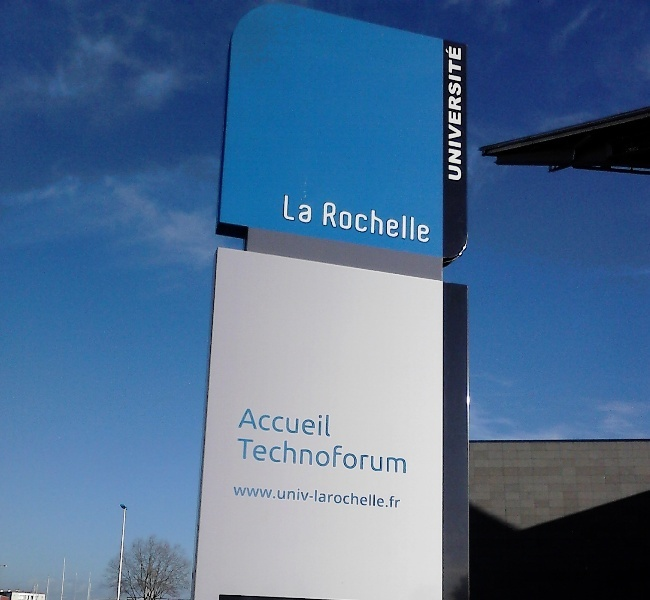text: (449, 43, 463, 181), (337, 200, 352, 244), (353, 200, 368, 244), (369, 200, 384, 244), (385, 200, 400, 244), (401, 200, 416, 244), (417, 200, 431, 244), (241, 434, 256, 475), (257, 434, 272, 475), (273, 434, 288, 475), (289, 434, 304, 475), (305, 434, 320, 475), (321, 434, 336, 475), (337, 434, 352, 475), (353, 434, 368, 475), (369, 434, 384, 475), (385, 434, 400, 475), (444, 43, 448, 181), (324, 200, 336, 244), (289, 193, 304, 225), (241, 407, 256, 438), (257, 407, 272, 438), (273, 407, 288, 438), (289, 407, 304, 438), (305, 407, 320, 438), (241, 482, 256, 510), (257, 482, 272, 510), (273, 482, 288, 510), (289, 482, 304, 510), (305, 482, 320, 510), (321, 482, 336, 510), (337, 482, 352, 510), (353, 482, 368, 510), (369, 482, 384, 510), (385, 482, 400, 510), (321, 407, 332, 438), (401, 434, 409, 475), (305, 193, 313, 225), (234, 482, 240, 510), (283, 193, 288, 225), (237, 407, 240, 438), (238, 434, 240, 475), (401, 482, 402, 510)
